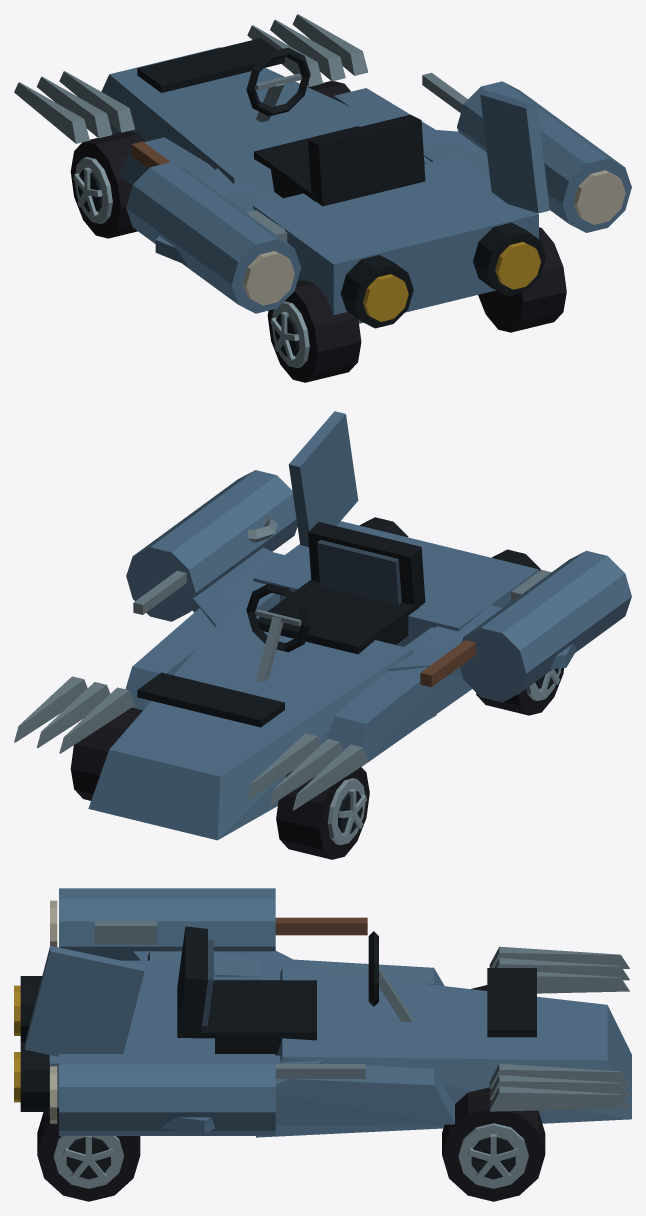
File: kart.glb
3 renders of one model, top to bottom at view 1: azimuth 30°, elevation 25°; view 2: azimuth 150°, elevation 25°; view 3: azimuth 270°, elevation 25°, orthographic. The views are drawn at different scales.
Visible parts, largest first — view 1: identity-shuttle-shuttle-flight-planform, identity-shuttle-motif-engine-pods, identity-shuttle-driver-cockpit, identity-shuttle-motif-claws, wheel-rear-left, wheel-front-left, wheel-rear-right, identity-shuttle-motif-tools; view 2: identity-shuttle-shuttle-flight-planform, identity-shuttle-motif-engine-pods, identity-shuttle-driver-cockpit, identity-shuttle-motif-claws, wheel-front-left, identity-shuttle-motif-tools, wheel-front-right, wheel-rear-left; view 3: identity-shuttle-shuttle-flight-planform, identity-shuttle-motif-engine-pods, identity-shuttle-driver-cockpit, identity-shuttle-motif-claws, wheel-front-right, wheel-rear-right, identity-shuttle-motif-tools.
Part boxes in pixels (x1,y1,x2,y2): identity-shuttle-shuttle-flight-planform: (101, 38, 549, 328); identity-shuttle-motif-engine-pods: (126, 81, 631, 313); identity-shuttle-driver-cockpit: (246, 47, 425, 206); identity-shuttle-motif-claws: (14, 14, 368, 143); wheel-rear-left: (267, 280, 361, 382); wheel-front-left: (70, 131, 145, 238); wheel-rear-right: (478, 227, 566, 332); identity-shuttle-motif-tools: (131, 72, 467, 242); identity-shuttle-shuttle-flight-planform: (88, 411, 576, 840); identity-shuttle-motif-engine-pods: (126, 470, 631, 702); identity-shuttle-driver-cockpit: (246, 522, 425, 682); identity-shuttle-motif-claws: (14, 676, 368, 810); wheel-front-left: (276, 767, 369, 859); identity-shuttle-motif-tools: (133, 516, 551, 687); wheel-front-right: (70, 707, 142, 800); wheel-rear-left: (476, 668, 564, 715); identity-shuttle-shuttle-flight-planform: (14, 945, 631, 1137); identity-shuttle-motif-engine-pods: (50, 888, 275, 1135); identity-shuttle-driver-cockpit: (177, 926, 412, 1055); identity-shuttle-motif-claws: (489, 946, 629, 1111); wheel-front-right: (442, 1087, 545, 1201); wheel-rear-right: (37, 1107, 140, 1201); identity-shuttle-motif-tools: (95, 917, 367, 1078).
Bounding box in the file's own units: 2.36 × 1.28 × 2.99.
